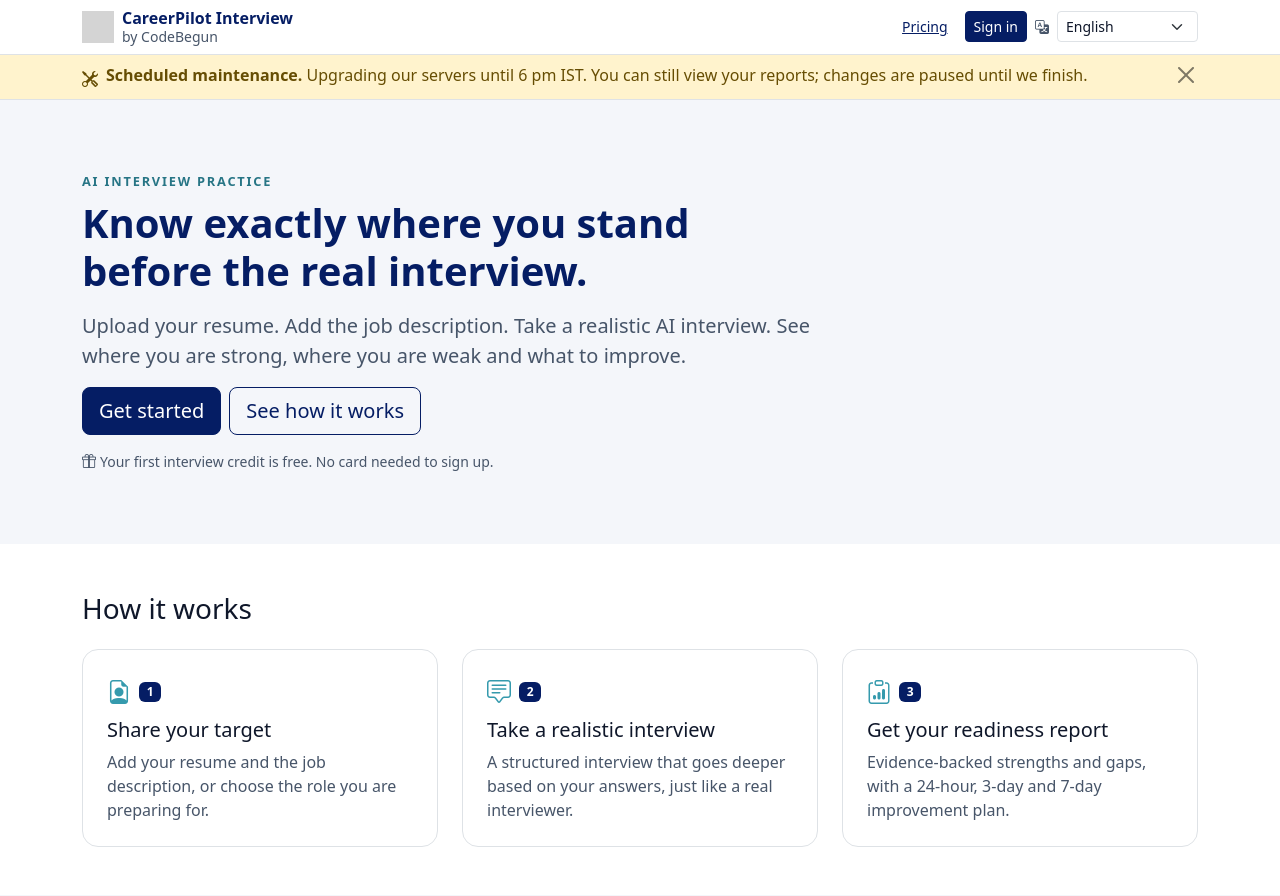
Test: maintenance mode › shows the admin notice across the site and hides it for the session when dismissed
Expected: the text "Upgrading our servers until 6 pm IST." shows "Scheduled maintenance.", [106,64,302,86]
Expected: the text "Upgrading our servers until 6 pm IST." shows "You can still view your reports; changes are paused until we finish.", [591,64,1088,86]
Click the button named "Dismiss the maintenance notice" at x=1186, y=74, box [1174,62,1198,86]
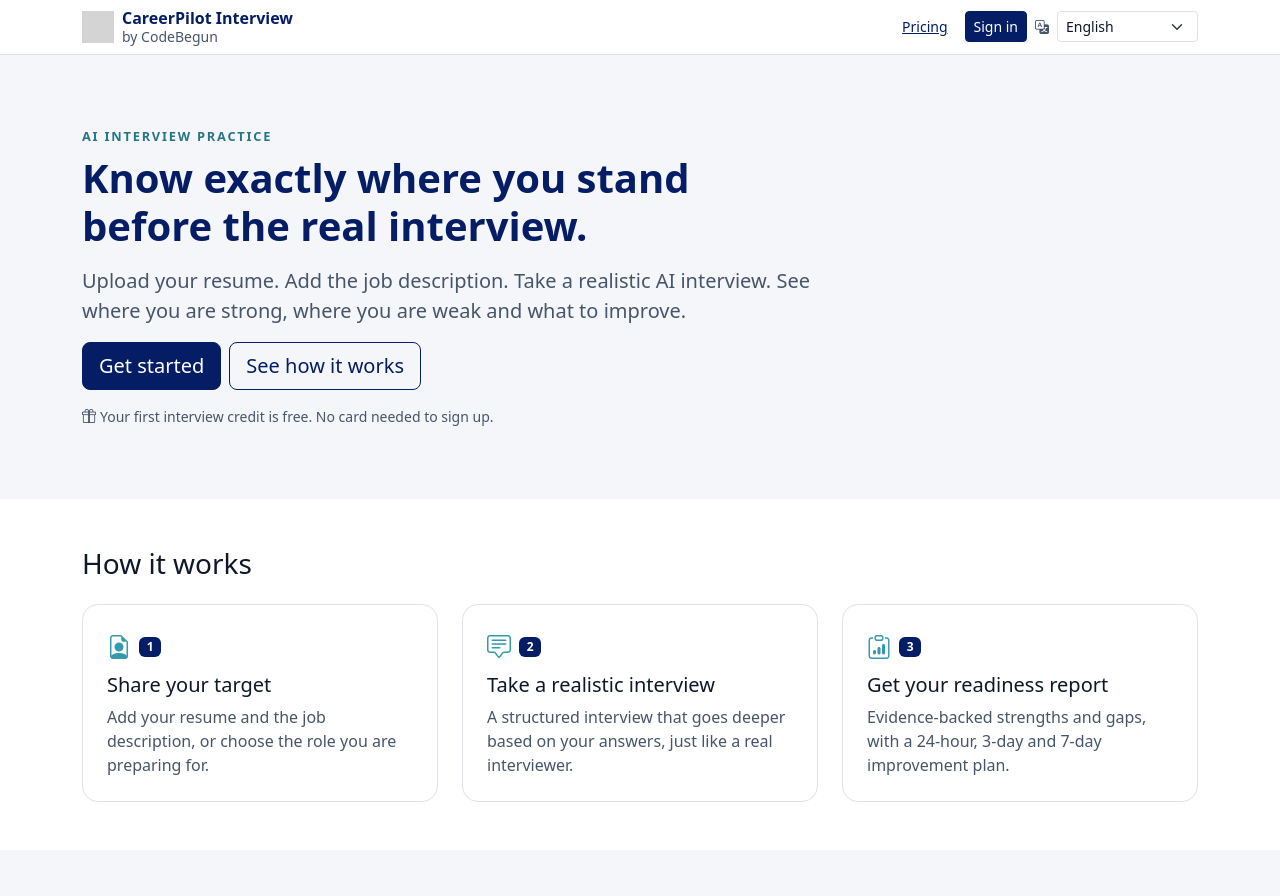
Expected: the text "Upgrading our servers until 6 pm IST." is gone
